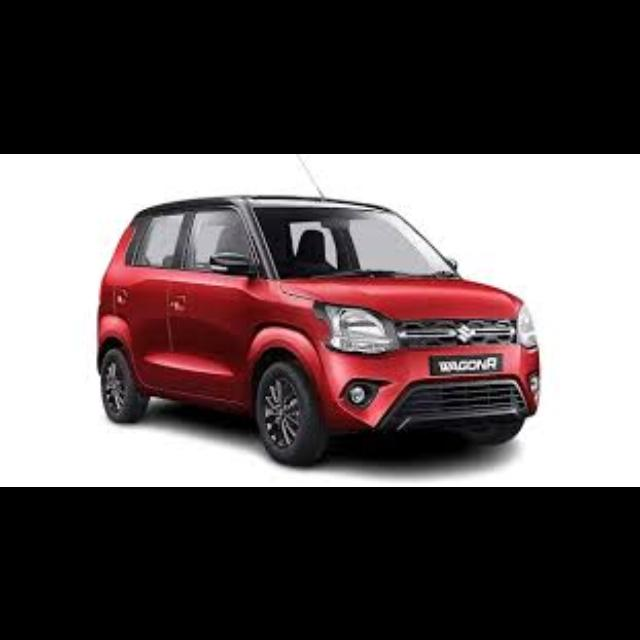number-plate: (426, 351, 502, 376)
vehicles: (89, 176, 544, 470)
